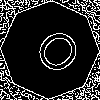O: (25, 25, 85, 85)
